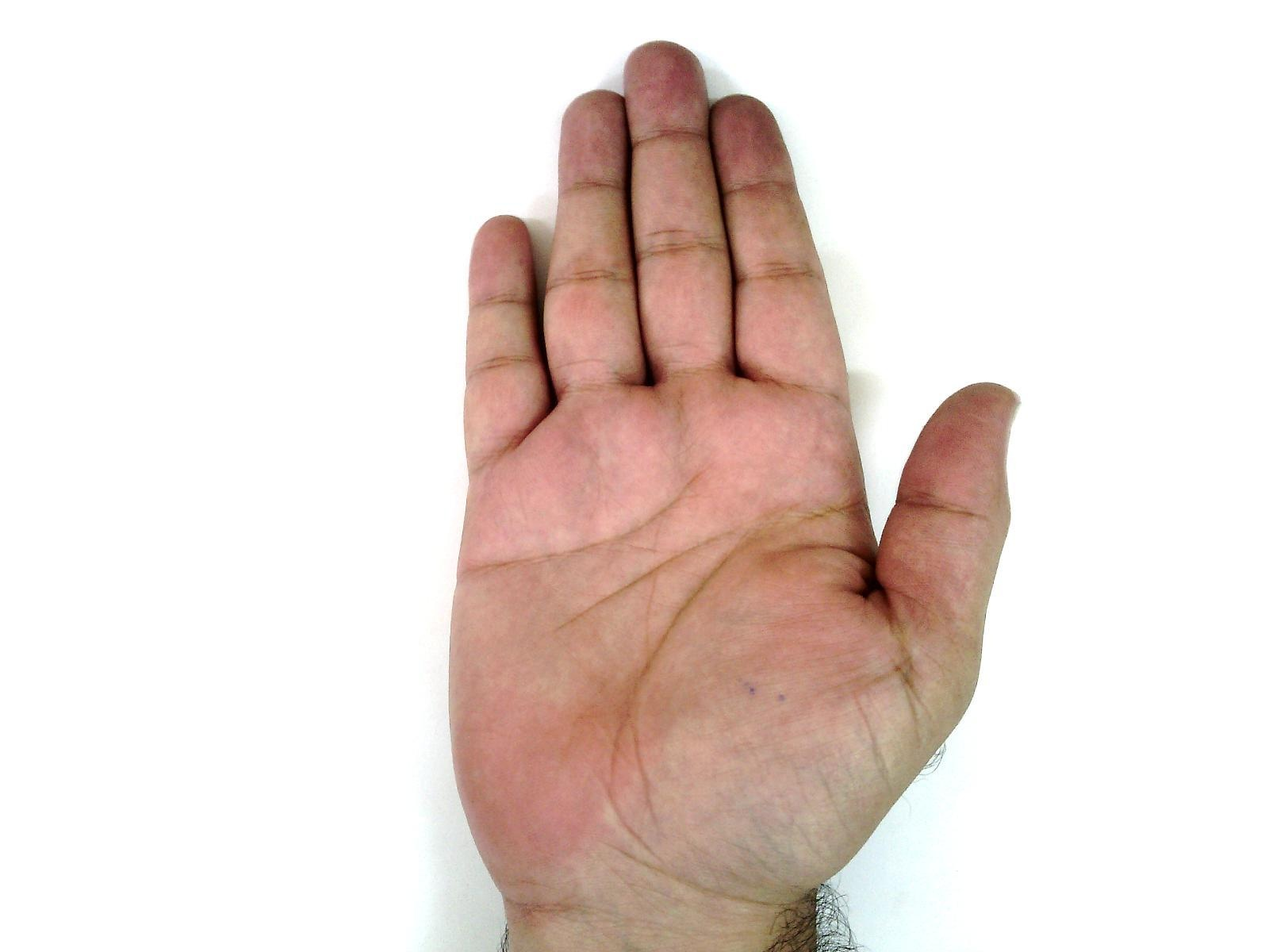open_palm: (443, 40, 1019, 920)
